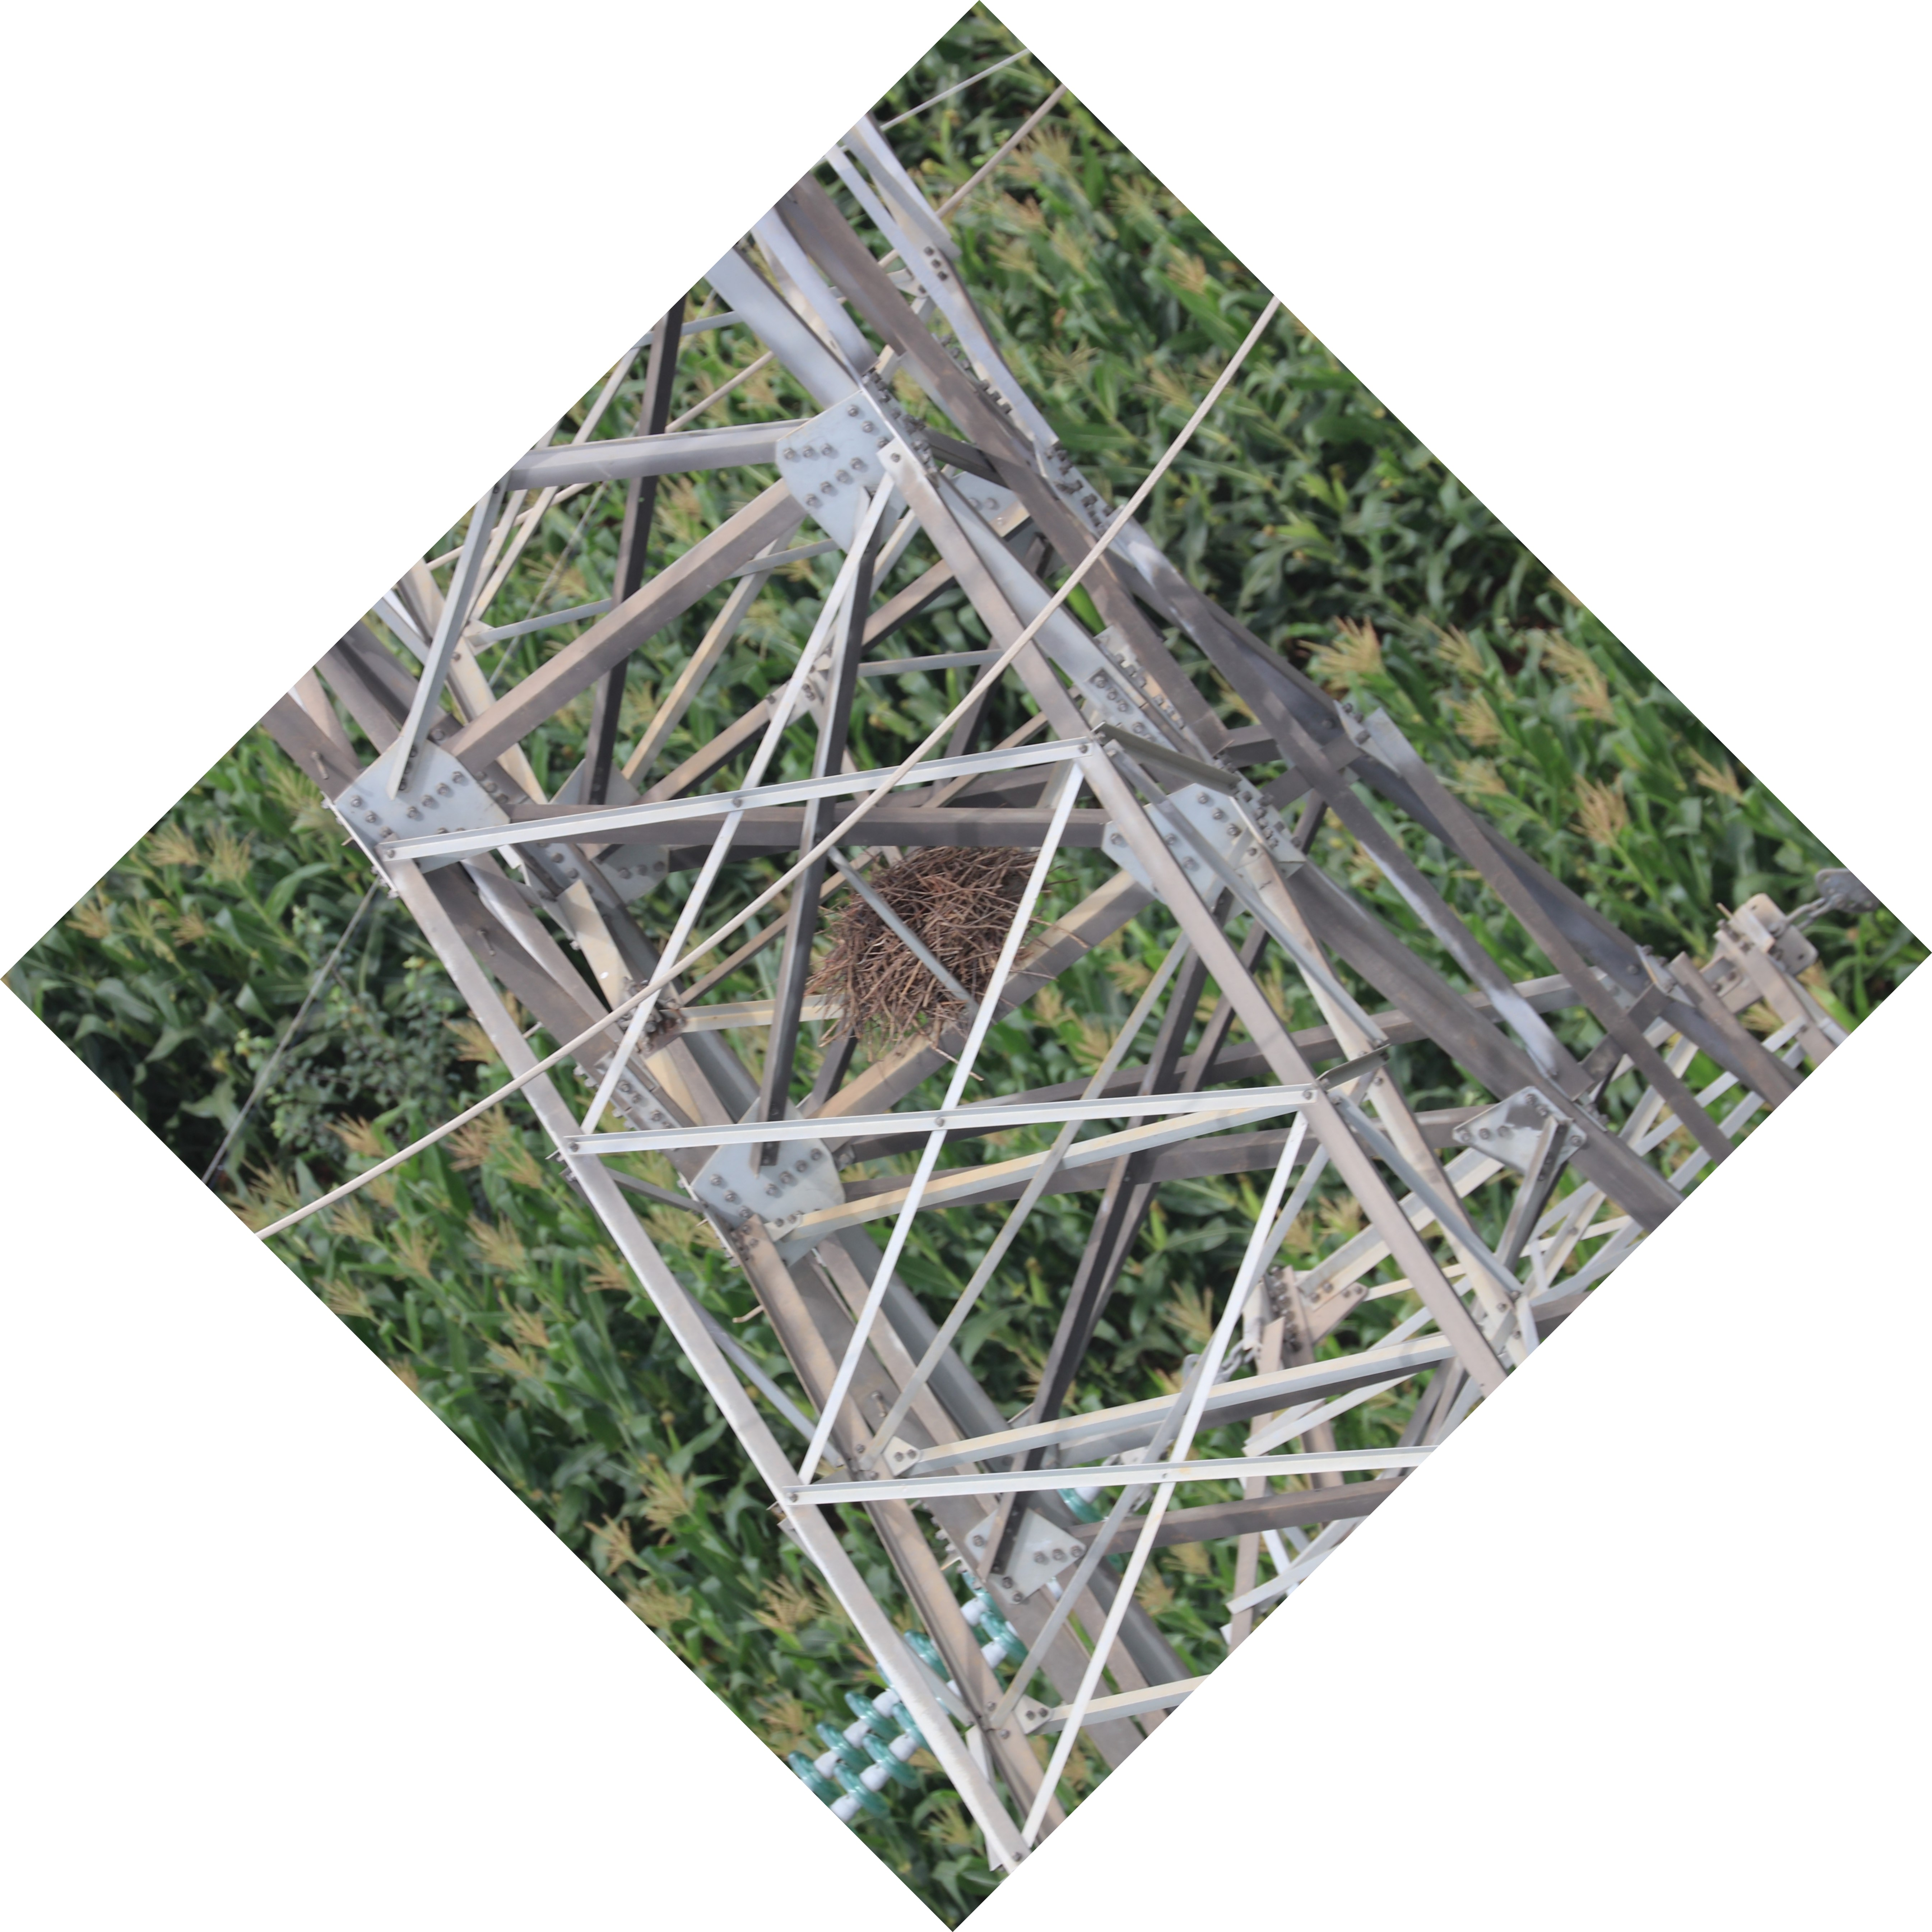niaowo: (793, 821, 1076, 1069)
